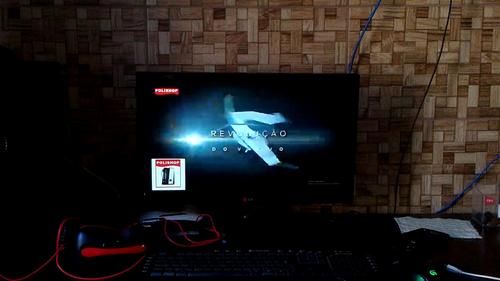Polishop #1: (152, 158, 184, 189)
